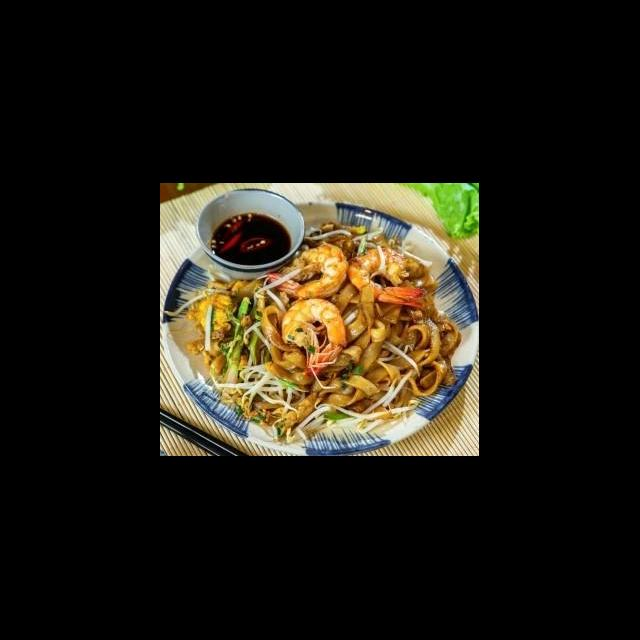mi: (322, 286, 464, 414), (256, 304, 320, 386)
tom: (280, 296, 350, 378), (264, 240, 352, 302), (344, 246, 428, 310)
